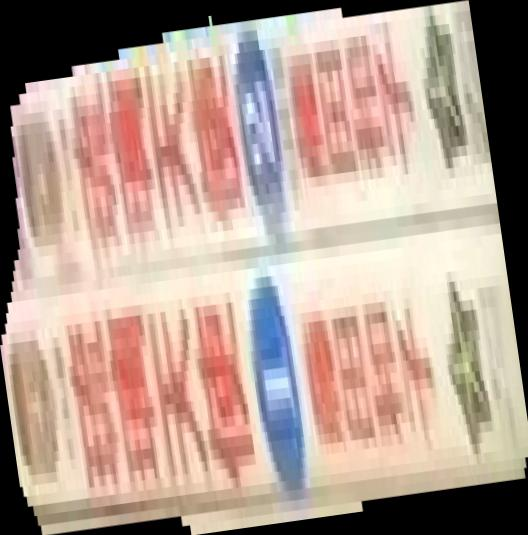flat: (1, 1, 528, 535)
